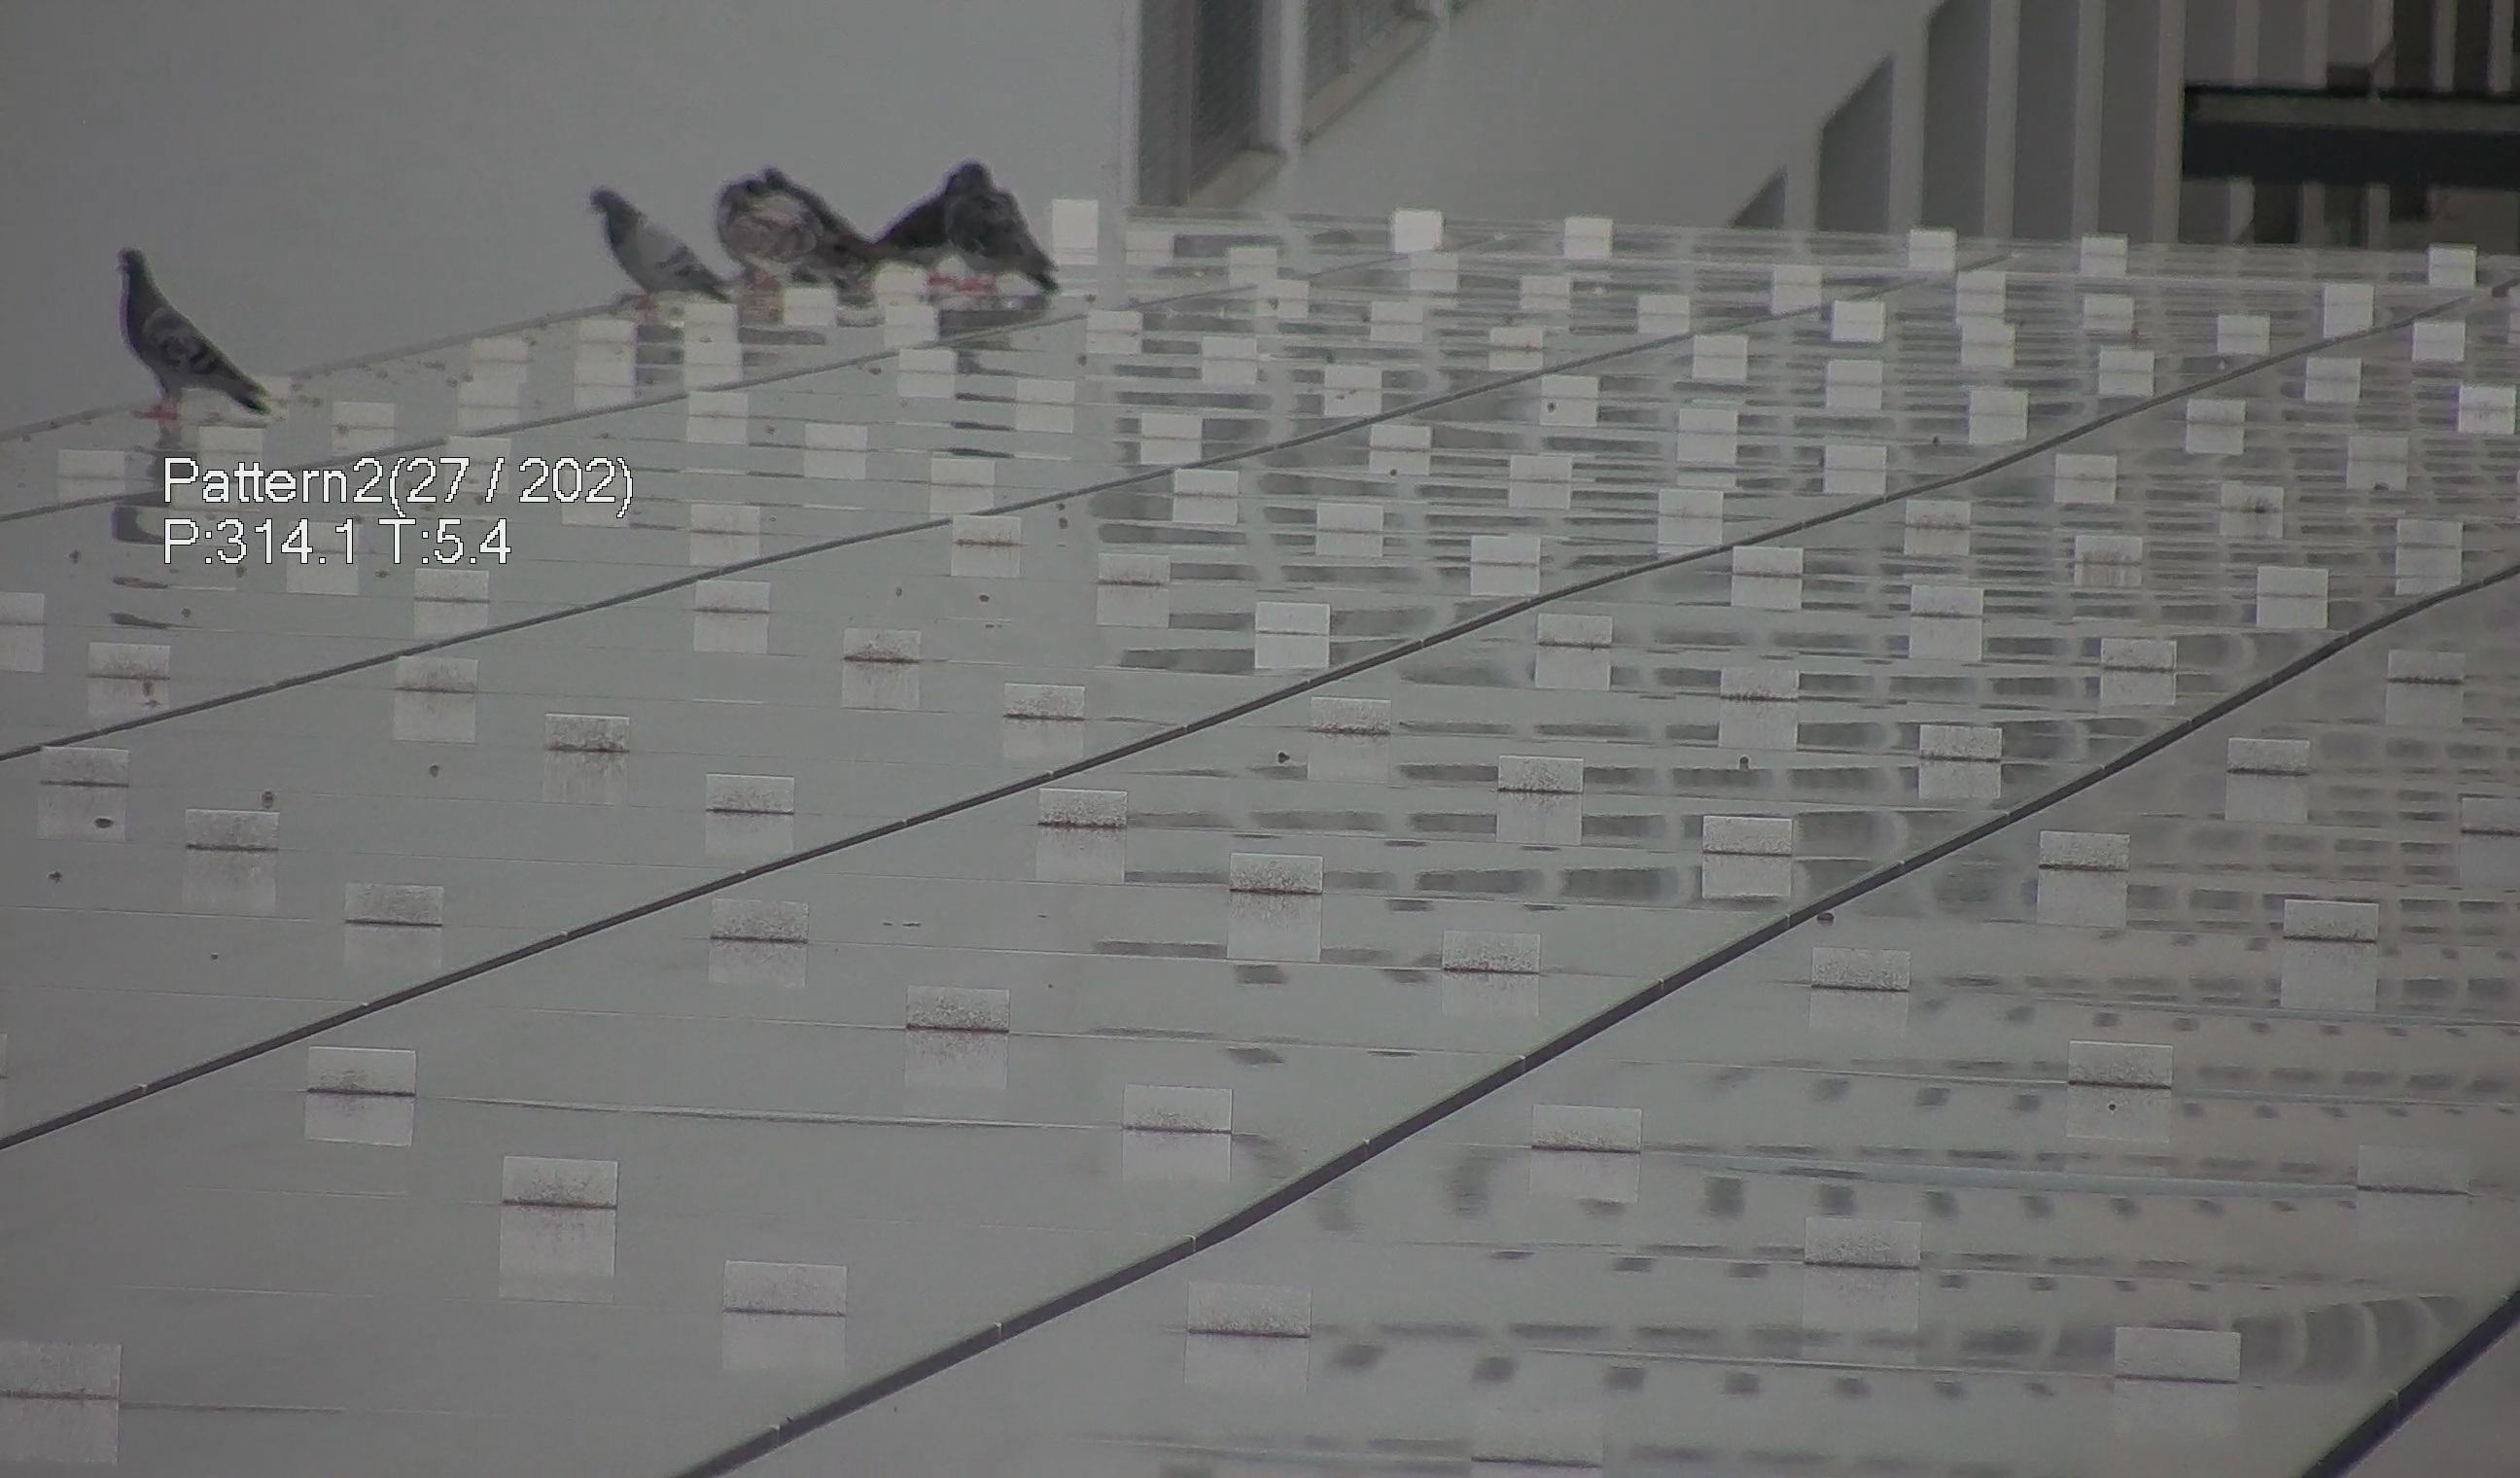Pigeon: (97, 239, 283, 443), (686, 157, 886, 289), (885, 144, 1059, 290), (573, 171, 737, 310), (950, 151, 1055, 294)
